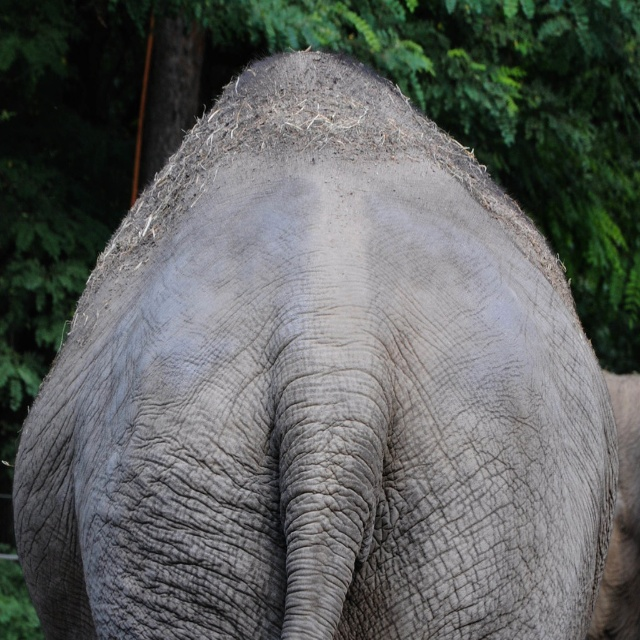Elephant: (14, 43, 621, 639)
